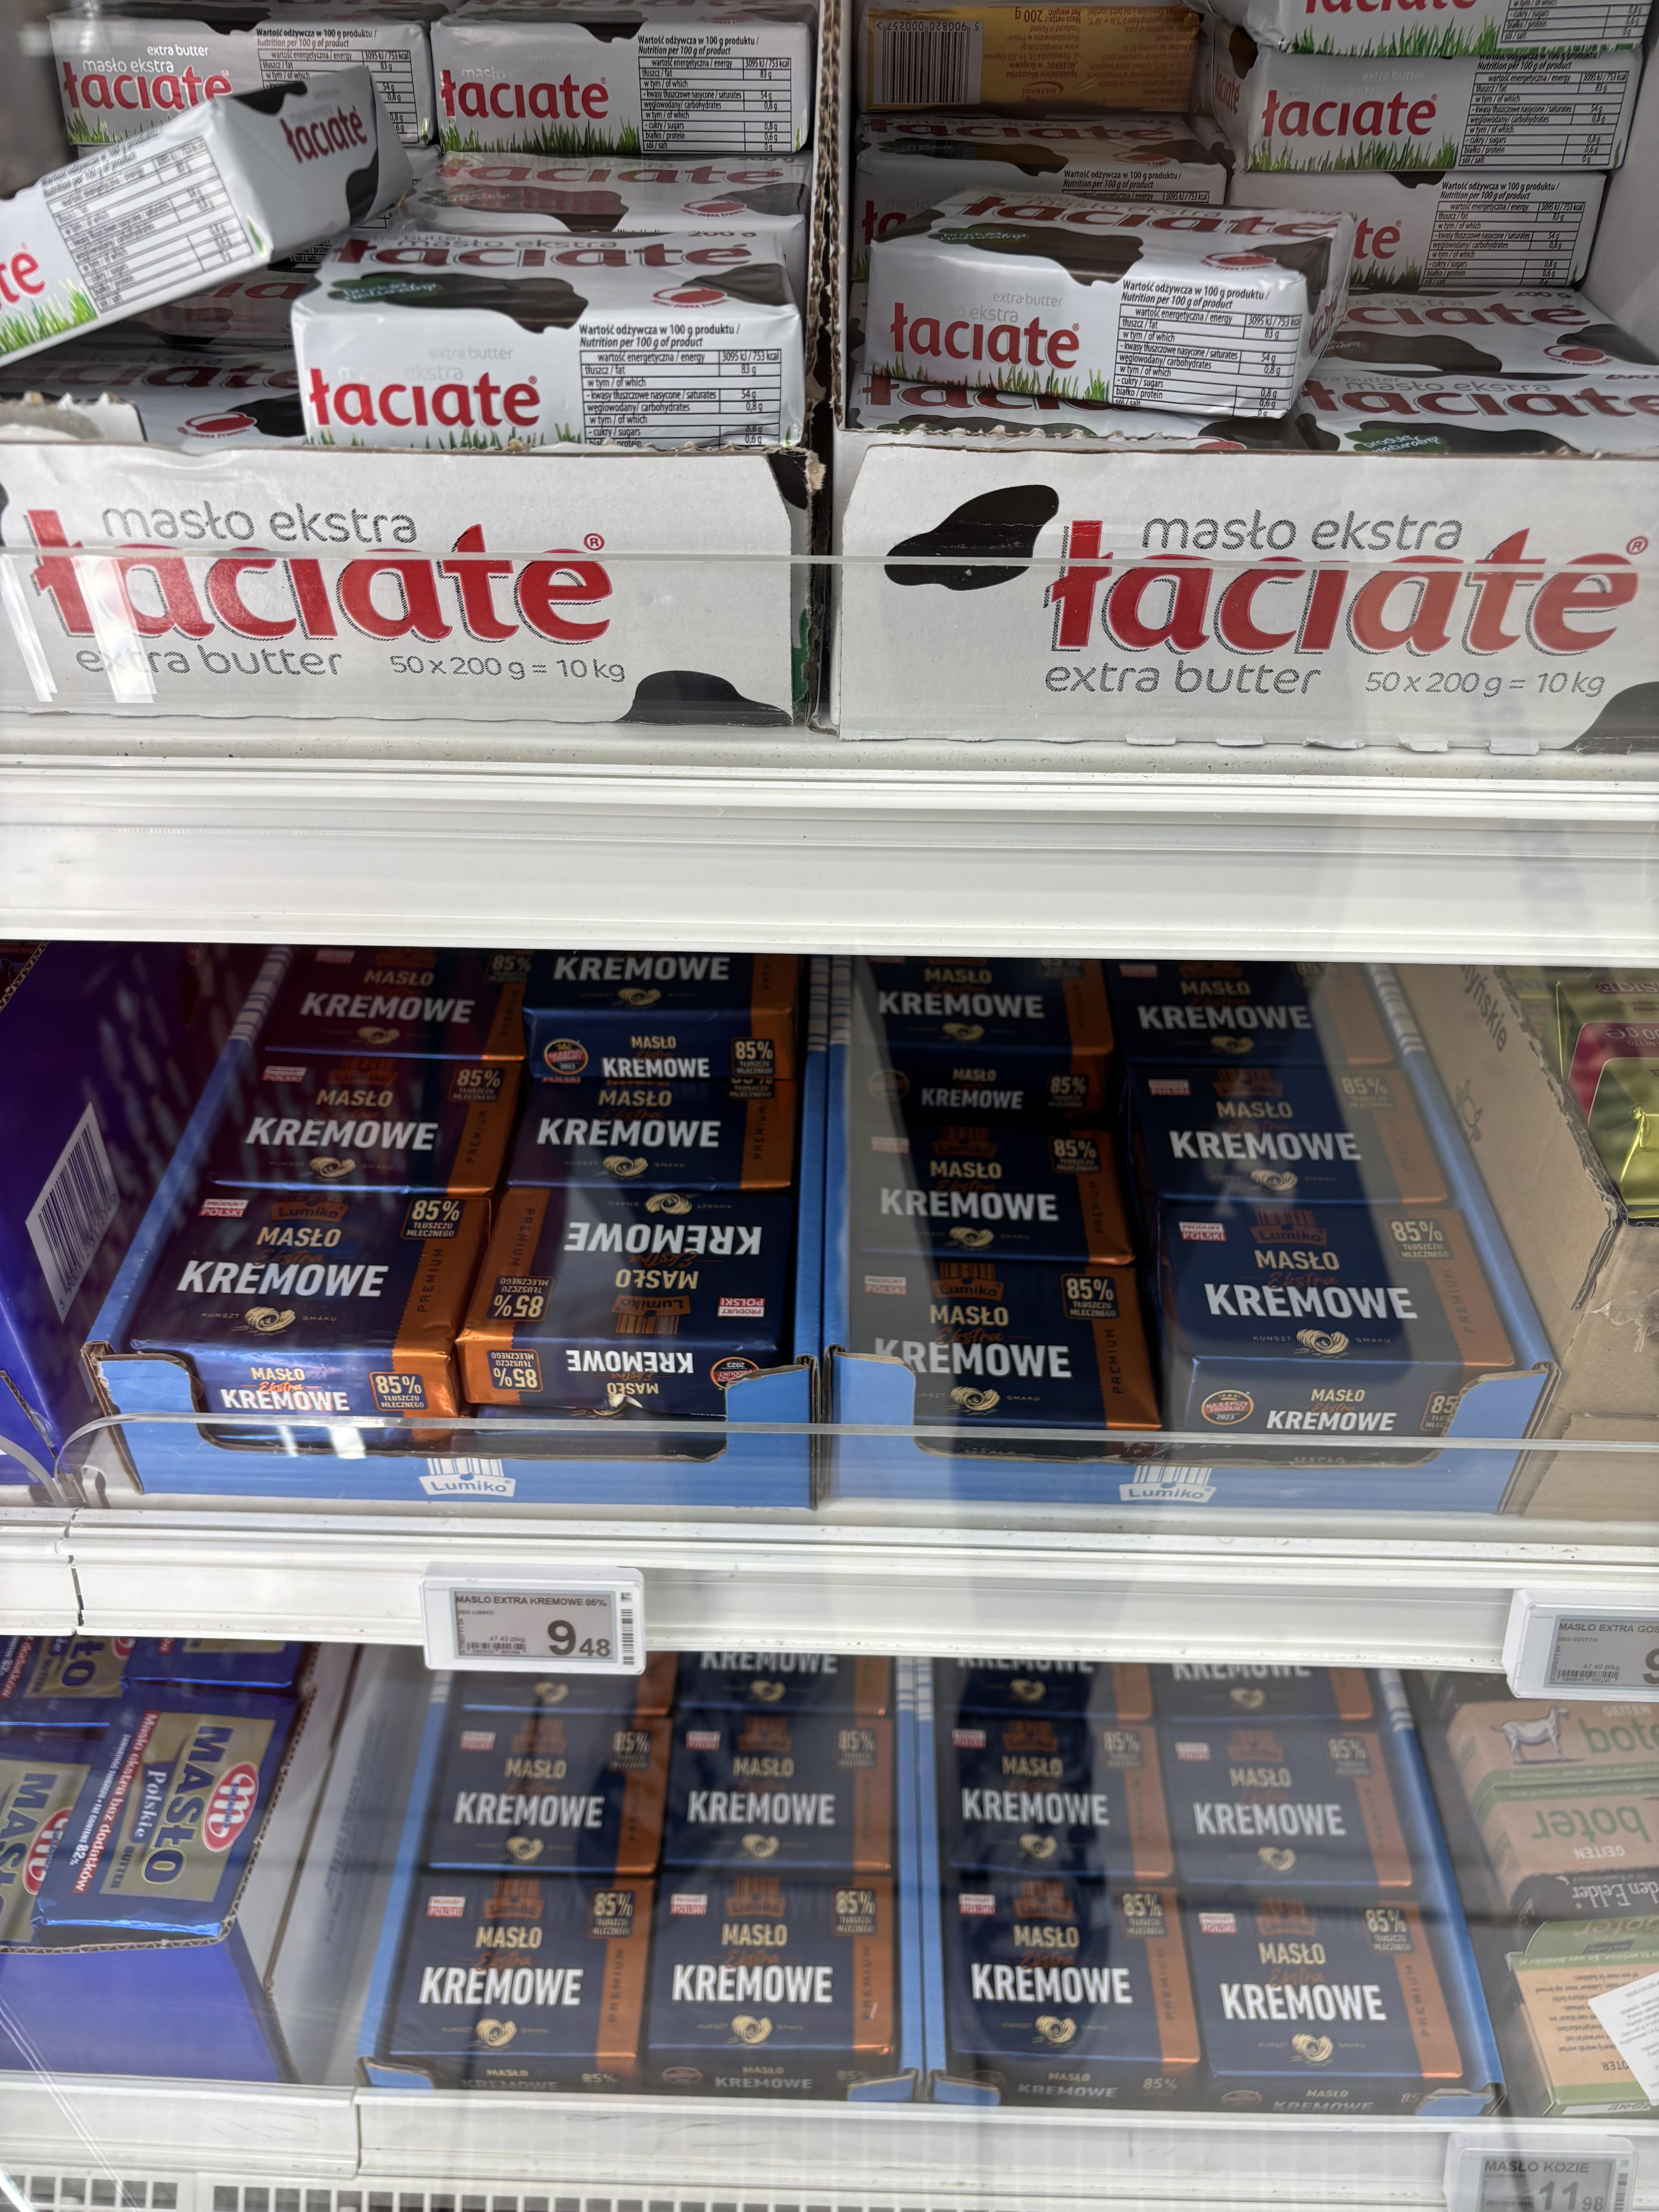Butter: (305, 228, 816, 441), (1126, 1202, 1579, 1421), (871, 207, 1330, 388), (124, 1197, 486, 1425), (1183, 1886, 1525, 2118), (1112, 1059, 1488, 1266), (0, 134, 397, 320), (366, 1879, 702, 2095), (847, 1247, 1206, 1440), (422, 9, 816, 174), (450, 1221, 798, 1407), (38, 1695, 307, 1928), (1136, 1710, 1480, 1888), (910, 1881, 1195, 2071), (185, 1035, 498, 1207), (383, 1707, 692, 1874), (518, 1029, 796, 1211), (653, 1702, 938, 1876), (659, 1900, 938, 2062), (854, 1103, 1152, 1254), (941, 1726, 1159, 1869)
